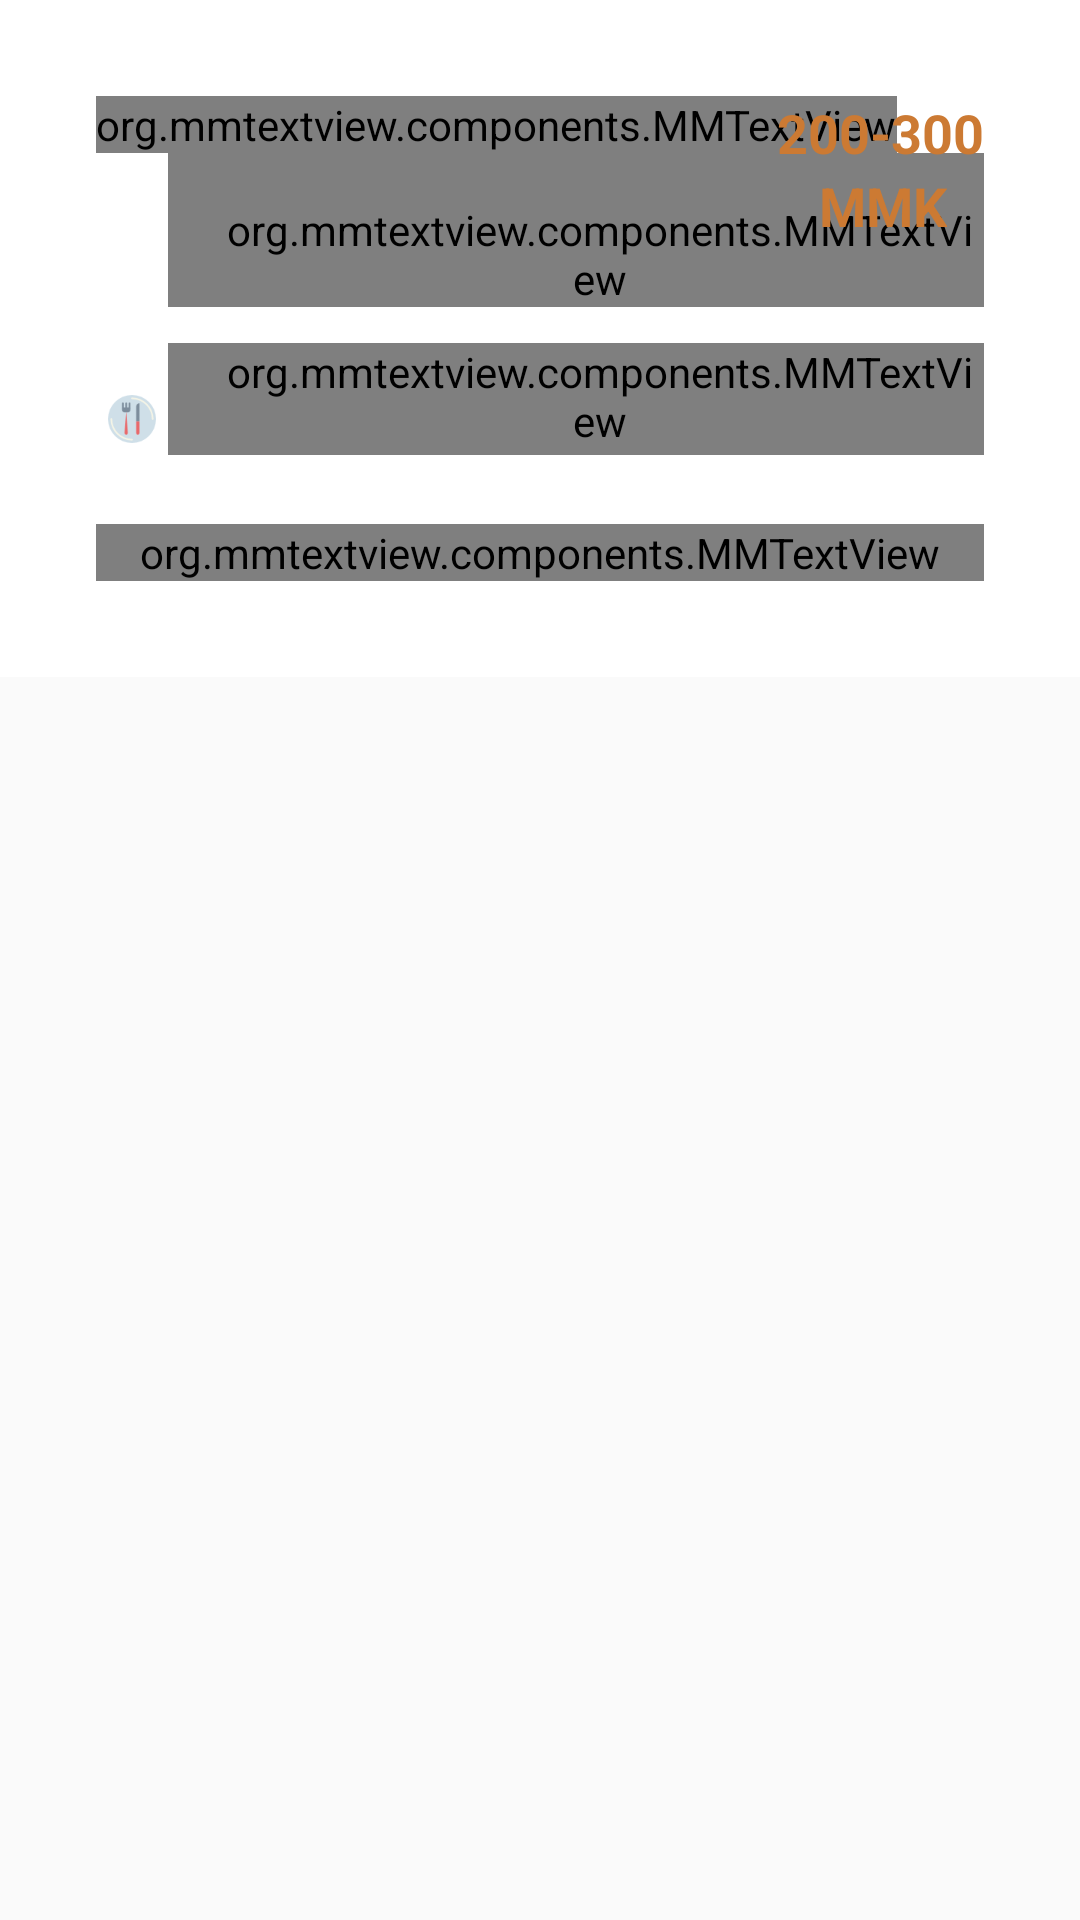

Screen size 1080px×1920px. Icon name, then its box in pixels as (x1, y1, x2, y2):
cutlery: (108, 395, 156, 443)
